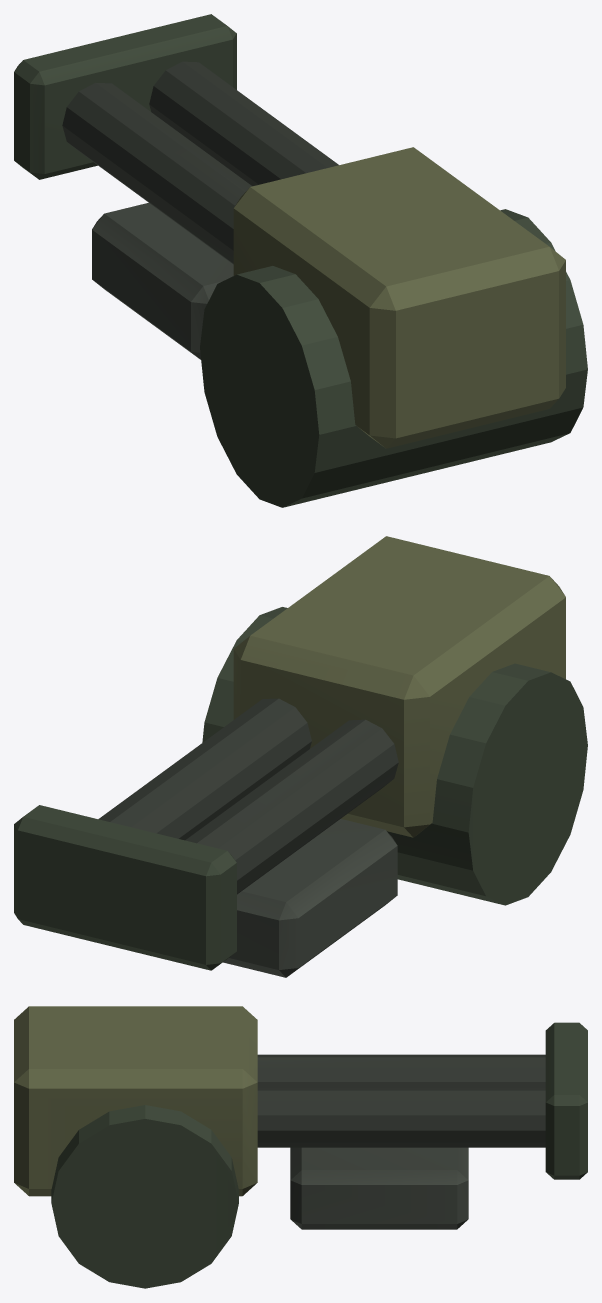
File: arm_breacher_left.glb
3 renders of one model, top to bottom at view 1: azimuth 30°, elevation 25°; view 2: azimuth 150°, elevation 25°; view 3: azimuth 270°, elevation 25°, orthographic. The views are drawn at different scales.
Visible parts, largest first — view 1: SG12_receiver, SG12_drum, SG12_muzzle_shield, SG12_twin_barrel, Moving_breacher_pump, SG12_twin_barrel.001; view 2: SG12_receiver, SG12_drum, SG12_muzzle_shield, Moving_breacher_pump, SG12_twin_barrel, SG12_twin_barrel.001; view 3: SG12_receiver, SG12_drum, SG12_twin_barrel.001, Moving_breacher_pump, SG12_twin_barrel, SG12_muzzle_shield.
Boxes of the visible parts, box(x1,y1,x2,y2) form: SG12_receiver: box(233, 147, 565, 448); SG12_drum: box(200, 209, 587, 507); SG12_muzzle_shield: box(14, 14, 236, 179); SG12_twin_barrel: box(62, 83, 251, 264); Moving_breacher_pump: box(92, 202, 233, 359); SG12_twin_barrel.001: box(149, 61, 338, 186); SG12_receiver: box(233, 536, 565, 837); SG12_drum: box(202, 607, 587, 905); SG12_muzzle_shield: box(14, 805, 236, 970); Moving_breacher_pump: box(223, 819, 397, 977); SG12_twin_barrel: box(185, 719, 398, 894); SG12_twin_barrel.001: box(98, 698, 311, 840); SG12_receiver: box(14, 1006, 257, 1196); SG12_drum: box(51, 1105, 238, 1288); SG12_twin_barrel.001: box(257, 1088, 545, 1147); Moving_breacher_pump: box(290, 1147, 468, 1229); SG12_twin_barrel: box(257, 1054, 545, 1087); SG12_muzzle_shield: box(545, 1022, 587, 1179).
Bounding box in the file's own units: 0.26 × 0.235 × 0.6125.
